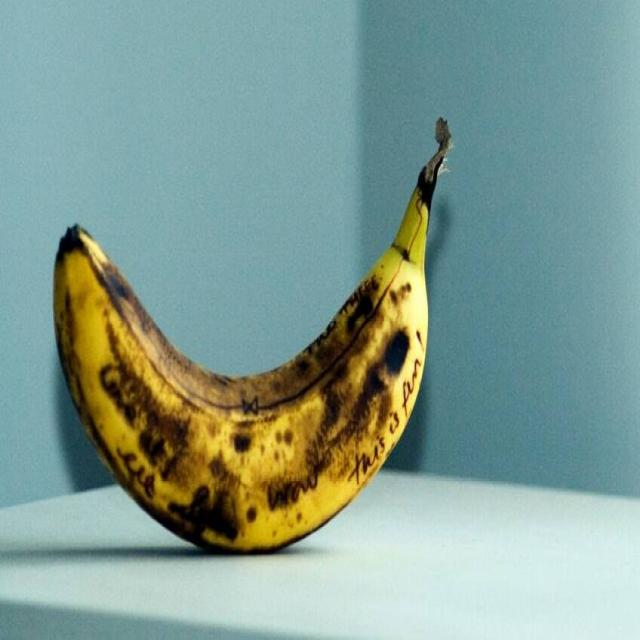Banana: (48, 121, 451, 554)
